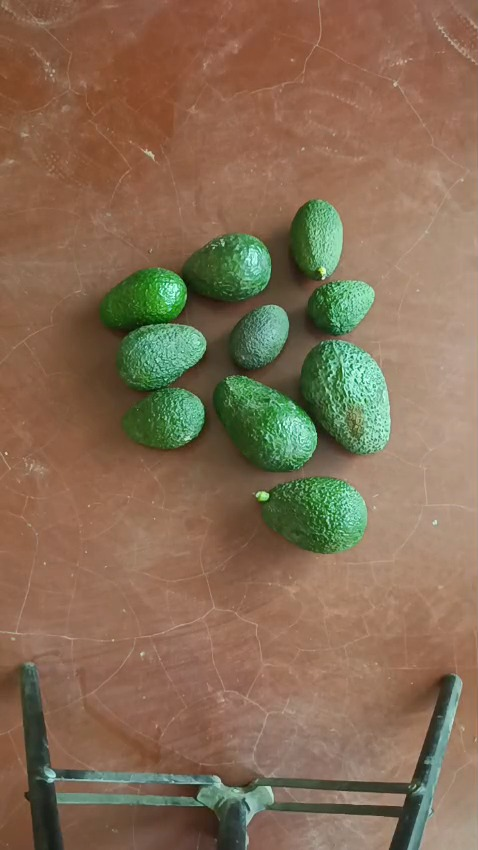Primera: (299, 338, 392, 453), (212, 375, 317, 470), (257, 477, 368, 553)
Segunda: (181, 232, 273, 302), (116, 322, 207, 390), (99, 268, 189, 331), (121, 387, 206, 449)
Tercera: (289, 199, 343, 280), (228, 303, 290, 371), (306, 279, 376, 336)
